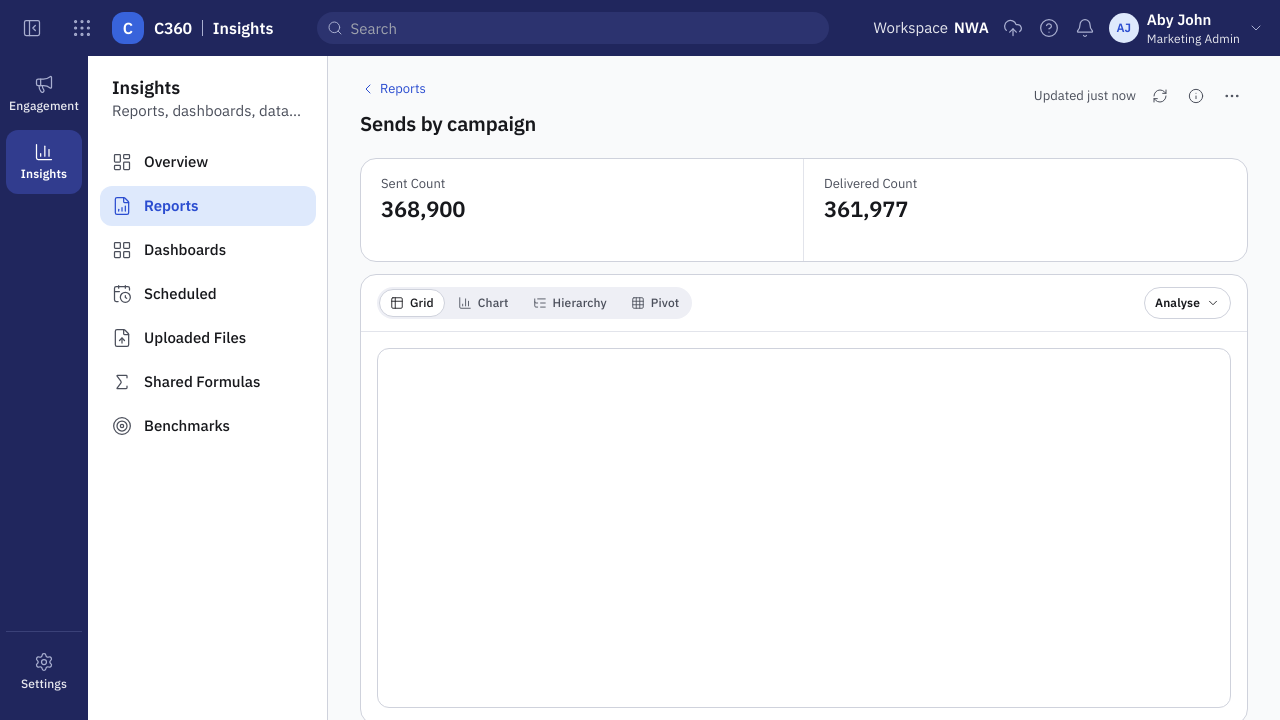
Test: a Report Details link closes the drawer and opens the page’s own dialog
Check: the heading "Sends by campaign" is shown, box [360, 110, 536, 138]
Click the button named "Report Details".
click(1196, 96)  # box [1180, 80, 1212, 112]
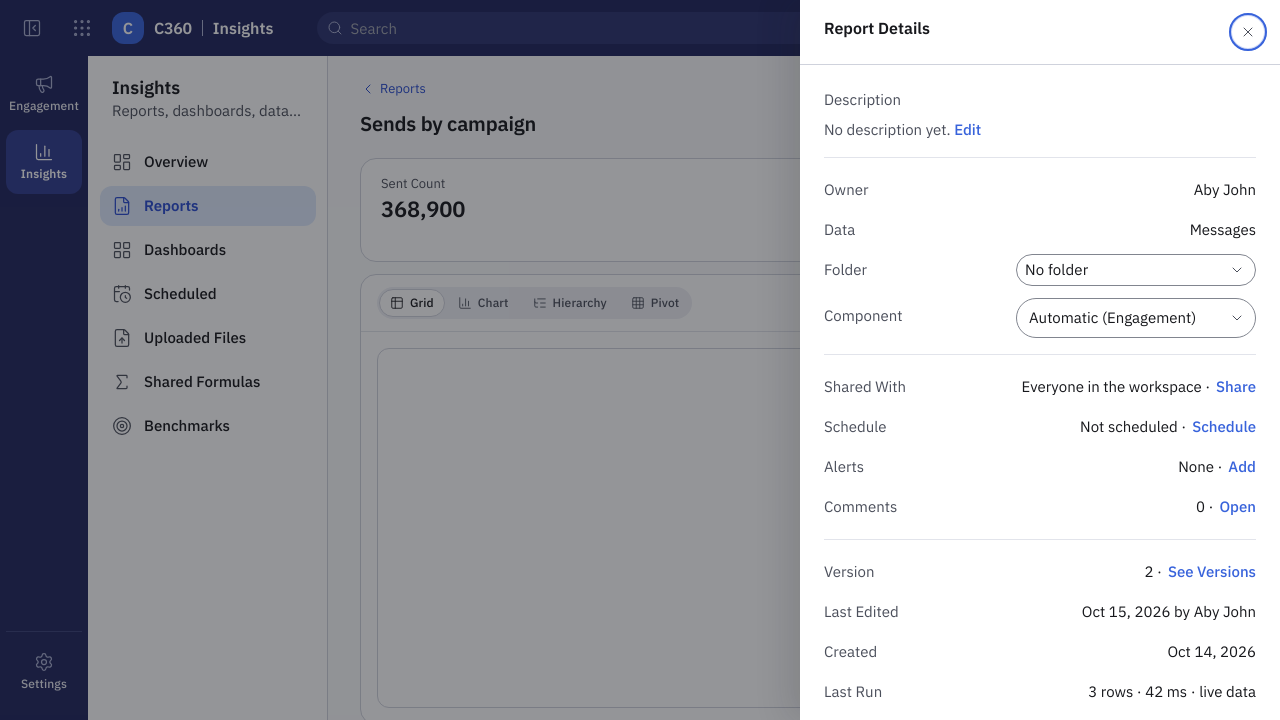
Click the button "See Versions".
click(1212, 572)  # box [1168, 561, 1256, 583]
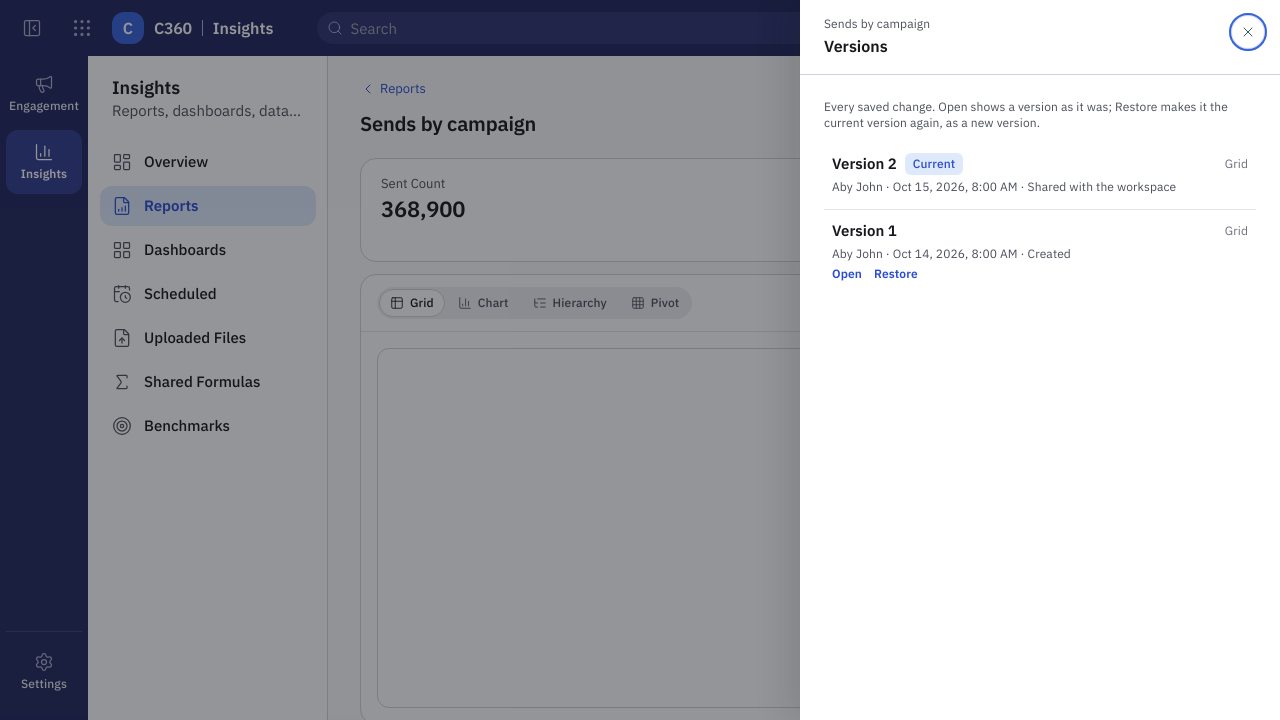
Check: the dialog "Versions" is shown, box [800, 0, 1279, 719]
Check: the heading "Report Details" is gone
